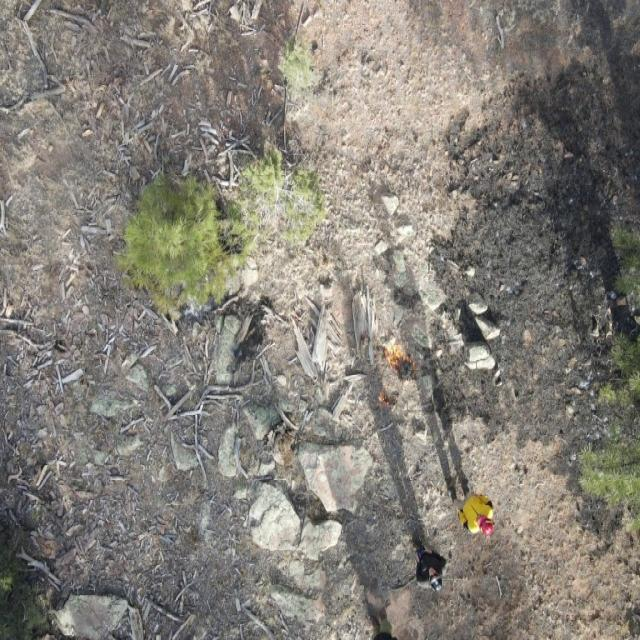fire: (363, 331, 423, 411)
